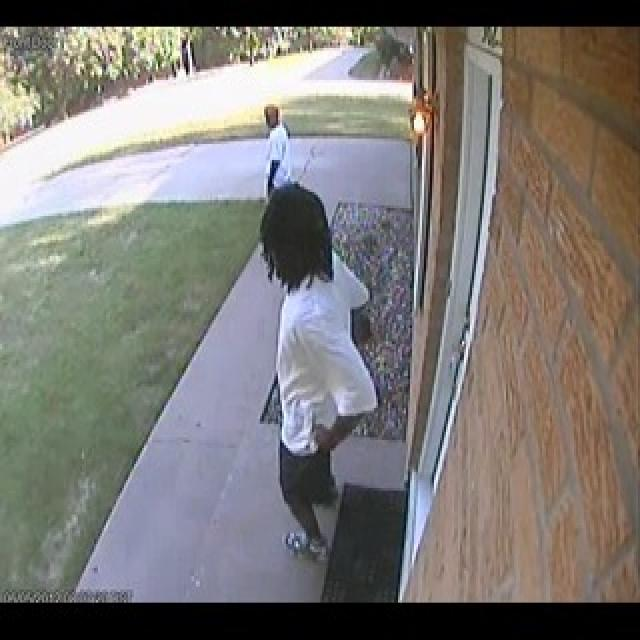thief: (270, 176, 337, 292), (249, 94, 285, 152)
